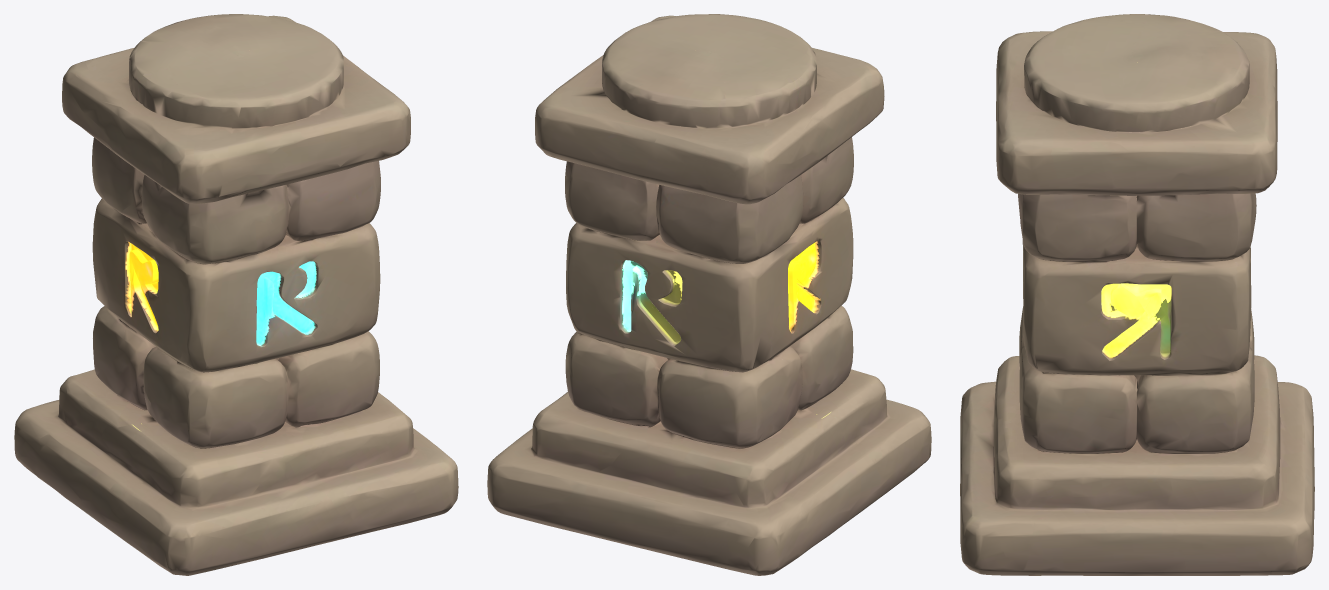
File: ev_seal-B7Xflme6.glb
3 views of the same model, side by side, from view 1: azimuth 30°, elevation 25°; view 2: azimuth 150°, elevation 25°; view 3: azimuth 270°, elevation 25° (orthographic). The views are drawn at different scales.
Visible parts, largest first — view 1: tripo_node_f7721b79-1441-4575-a19b-1e312e761d2d; view 2: tripo_node_f7721b79-1441-4575-a19b-1e312e761d2d; view 3: tripo_node_f7721b79-1441-4575-a19b-1e312e761d2d.
Boxes of the visible parts, box(x1,y1,x2,y2) form: tripo_node_f7721b79-1441-4575-a19b-1e312e761d2d: box(14, 14, 458, 575); tripo_node_f7721b79-1441-4575-a19b-1e312e761d2d: box(487, 14, 931, 575); tripo_node_f7721b79-1441-4575-a19b-1e312e761d2d: box(960, 14, 1314, 575).
Size of the model in its own units: 1.85 by 2.6 by 1.84.
1 material, 1 textured.
